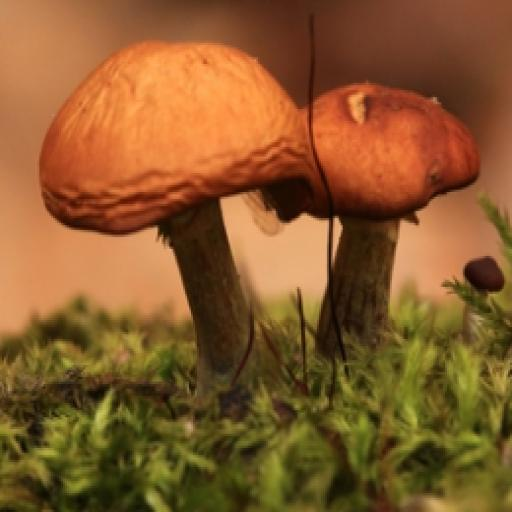Funeral Bell: (36, 30, 485, 373)
